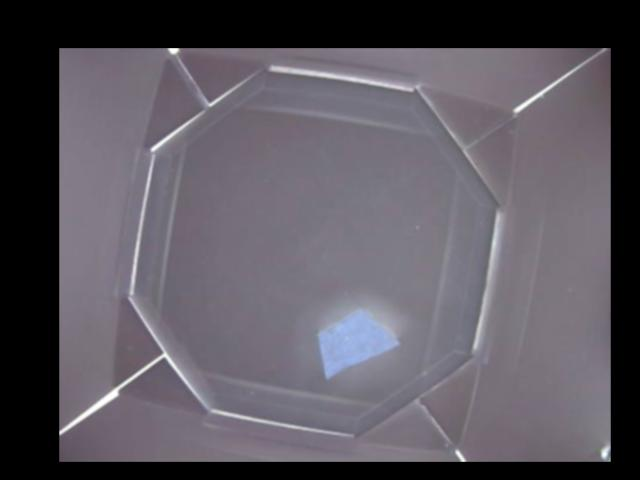China: (318, 306, 397, 377)
